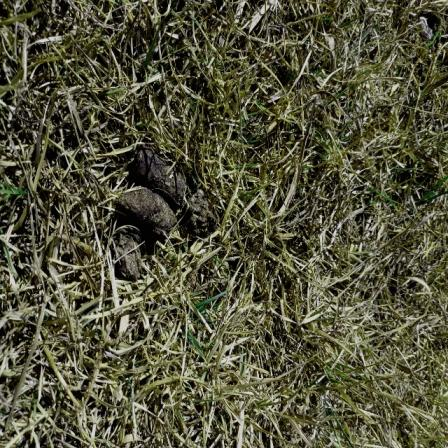dog-poop: (112, 139, 212, 279)
